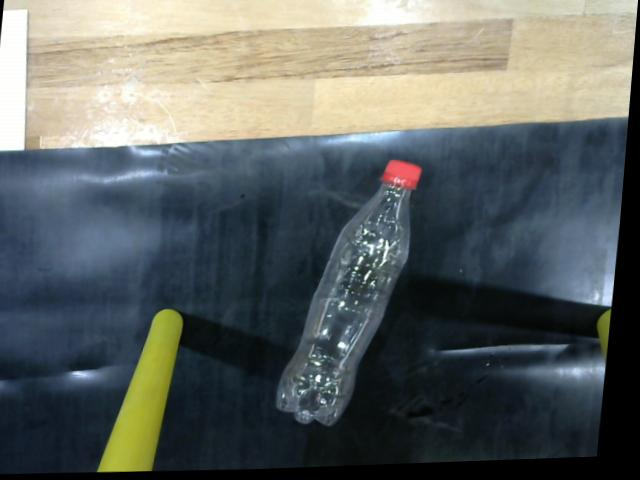bottle: (274, 161, 436, 443)
